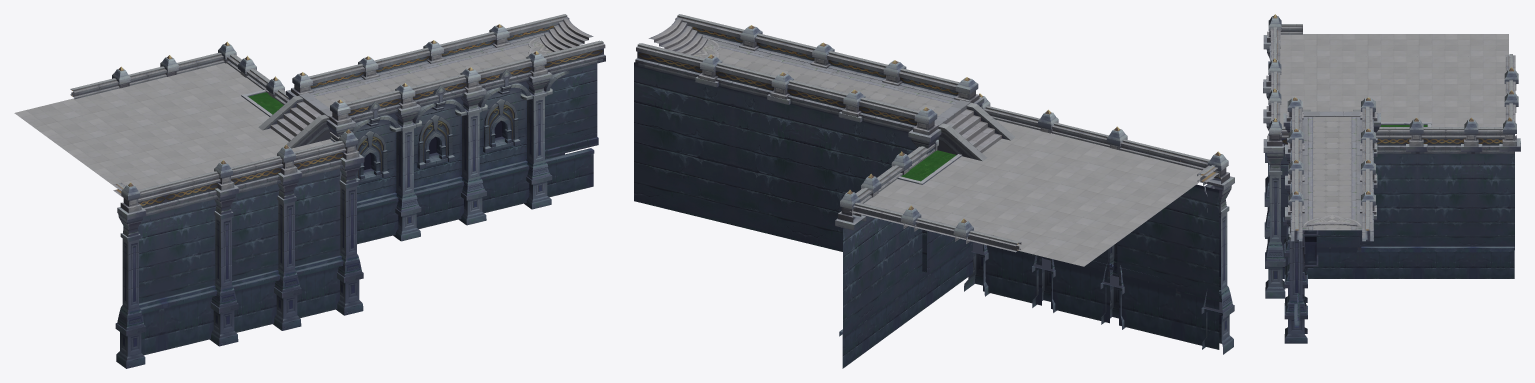
Rendered from zhuchengjianzhu_6.FBX.
3 renders of one model, left to right at view 1: azimuth 30°, elevation 25°; view 2: azimuth 150°, elevation 25°; view 3: azimuth 270°, elevation 25°, orthographic. The views are drawn at different scales.
Parts seen in each view (by area): view 1: zhucheng_qiangti013, zhucheng_qiangti012, zhucheng_dimian04, zhucheng_dimian03, zhucheng_tj03; view 2: zhucheng_qiangti013, zhucheng_dimian04, zhucheng_qiangti012, zhucheng_dimian03, zhucheng_tj03, zhucheng_caodi08; view 3: zhucheng_qiangti013, zhucheng_dimian04, zhucheng_qiangti012, zhucheng_dimian03, zhucheng_tj03.
Boxes of the visible parts, box(x1,y1,x2,y2) form: zhucheng_qiangti013: box(70, 41, 564, 368); zhucheng_qiangti012: box(286, 14, 605, 244); zhucheng_dimian04: box(14, 63, 333, 189); zhucheng_dimian03: box(314, 44, 530, 107); zhucheng_tj03: box(241, 89, 332, 148); zhucheng_qiangti013: box(634, 62, 1234, 368); zhucheng_dimian04: box(864, 119, 1202, 266); zhucheng_qiangti012: box(635, 14, 984, 154); zhucheng_dimian03: box(717, 47, 953, 116); zhucheng_tj03: box(897, 100, 1015, 184); zhucheng_caodi08: box(901, 150, 956, 181); zhucheng_qiangti013: box(1263, 14, 1520, 298); zhucheng_dimian04: box(1280, 34, 1508, 134); zhucheng_qiangti012: box(1283, 97, 1380, 343); zhucheng_dimian03: box(1313, 117, 1351, 230); zhucheng_tj03: box(1302, 109, 1431, 126).
Size of the model in its own units: 2090 by 967 by 818.
